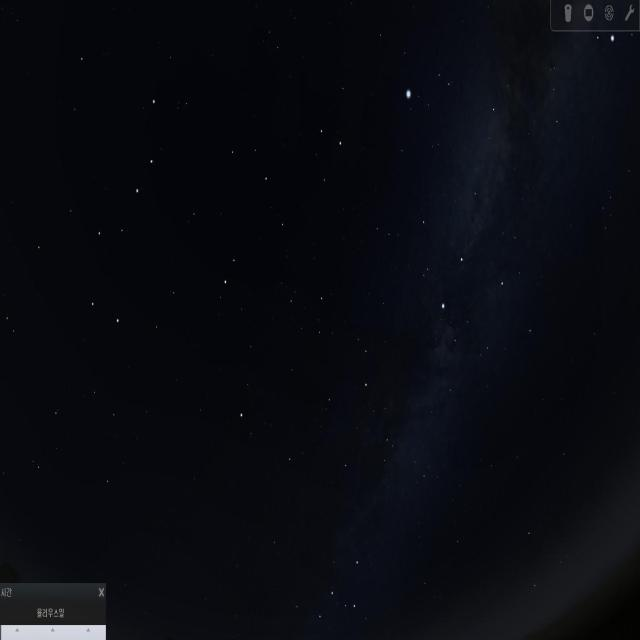cassiopeia: (296, 535, 362, 636)
cygnus: (403, 116, 510, 318)
lyra: (396, 63, 458, 127)
ursa_major: (77, 87, 163, 331)
